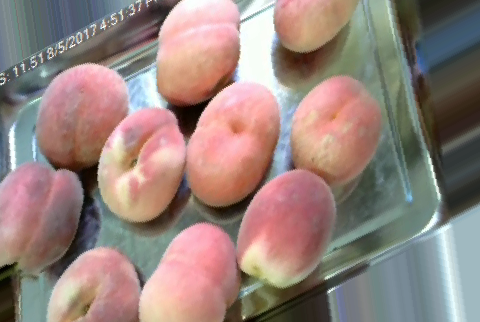Peach: (186, 80, 280, 203), (236, 169, 331, 290), (289, 75, 383, 190), (97, 106, 184, 223), (37, 61, 129, 169), (138, 222, 238, 321), (0, 164, 82, 276), (46, 245, 142, 321)
